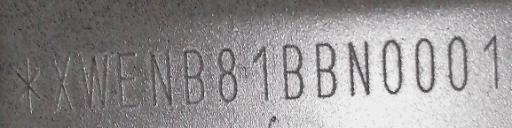letter: (140, 44, 178, 110), (74, 50, 114, 112), (342, 34, 380, 97), (177, 48, 213, 110), (44, 49, 78, 112), (278, 38, 308, 108), (210, 43, 242, 108), (310, 37, 342, 101), (409, 35, 441, 97), (114, 48, 146, 110), (476, 32, 506, 98), (442, 32, 474, 92), (246, 42, 274, 109), (378, 34, 408, 96)
